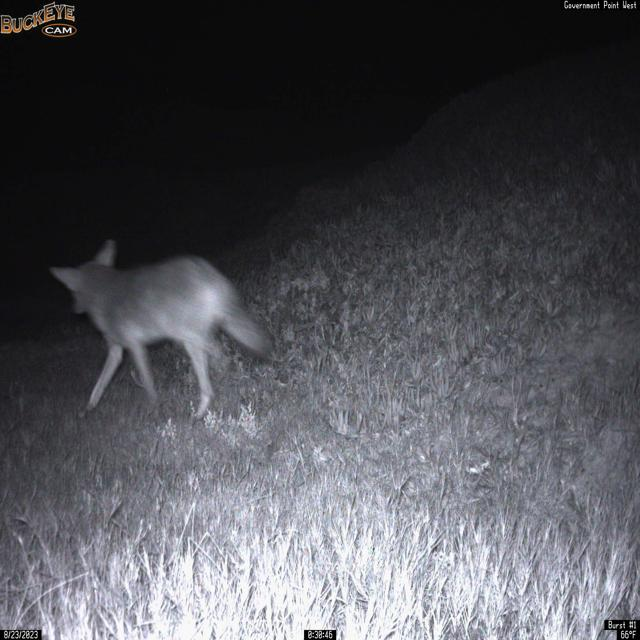coyote: (48, 235, 275, 424)
